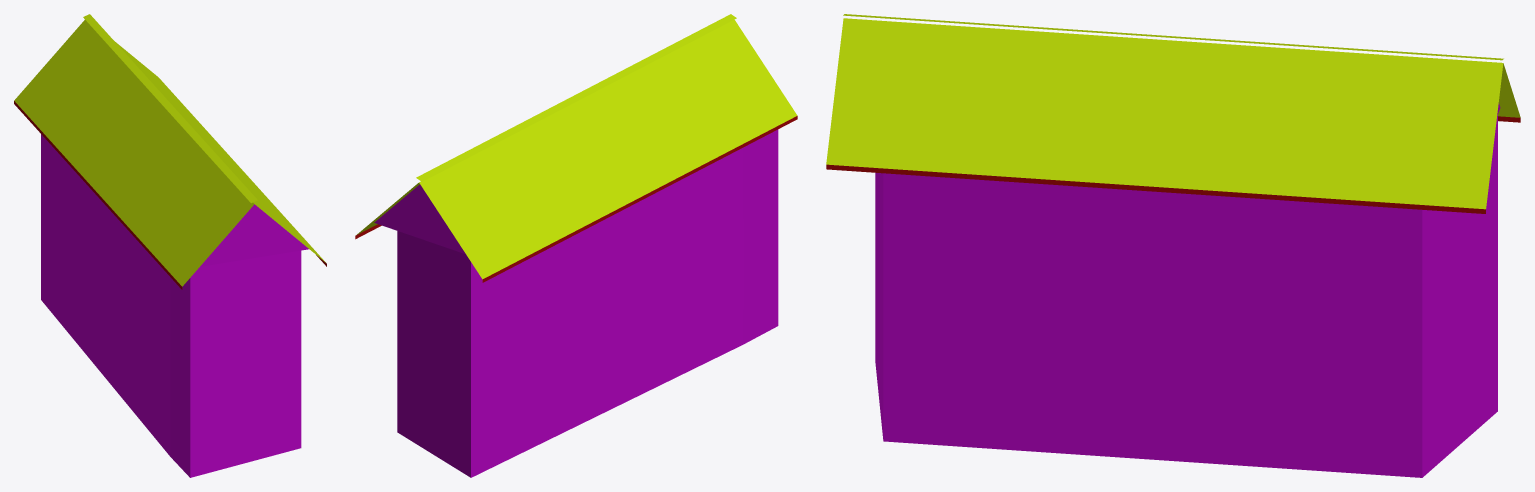
File: bgj_313.glb
3 views of the same model, side by side, from view 1: azimuth 30°, elevation 25°; view 2: azimuth 150°, elevation 25°; view 3: azimuth 270°, elevation 25° (orthographic). The views are drawn at different scales.
Parts seen in each view (by area): view 1: bgj_313; view 2: bgj_313; view 3: bgj_313.
Part boxes in pixels (box(x1,y1,x2,y2)): bgj_313: box(14, 14, 326, 477); bgj_313: box(355, 14, 797, 477); bgj_313: box(826, 14, 1520, 477).
Size of the model in its own units: 7.27 by 9.61 by 15.67.
